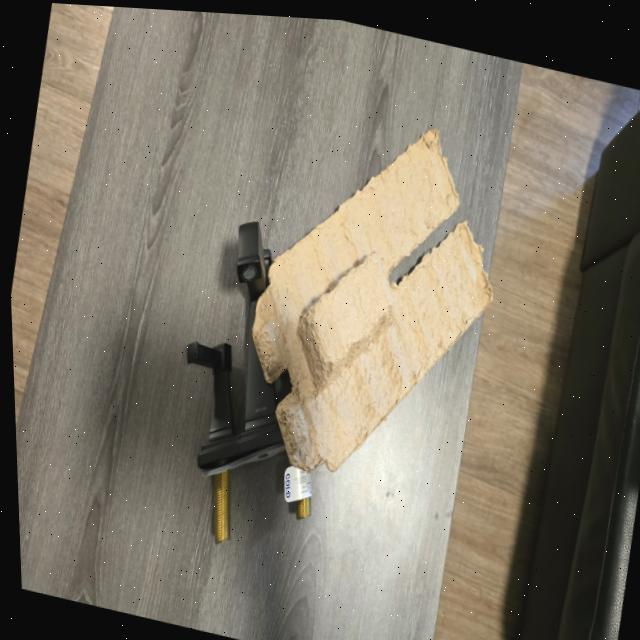9o: (187, 220, 291, 542), (290, 496, 310, 518)
